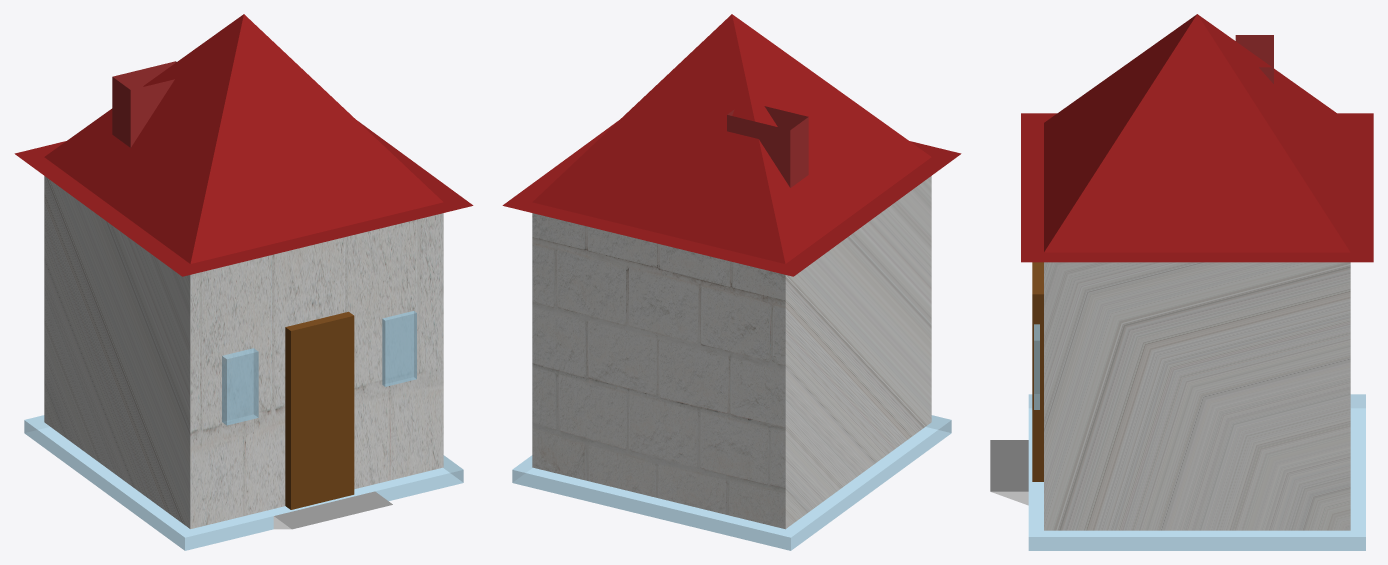
Rendered from __clean.obj.
3 views of the same model, side by side, from view 1: azimuth 30°, elevation 25°; view 2: azimuth 150°, elevation 25°; view 3: azimuth 270°, elevation 25° (orthographic). The views are drawn at different scales.
Size of the model in its own units: 4.6 by 6.7 by 5.
